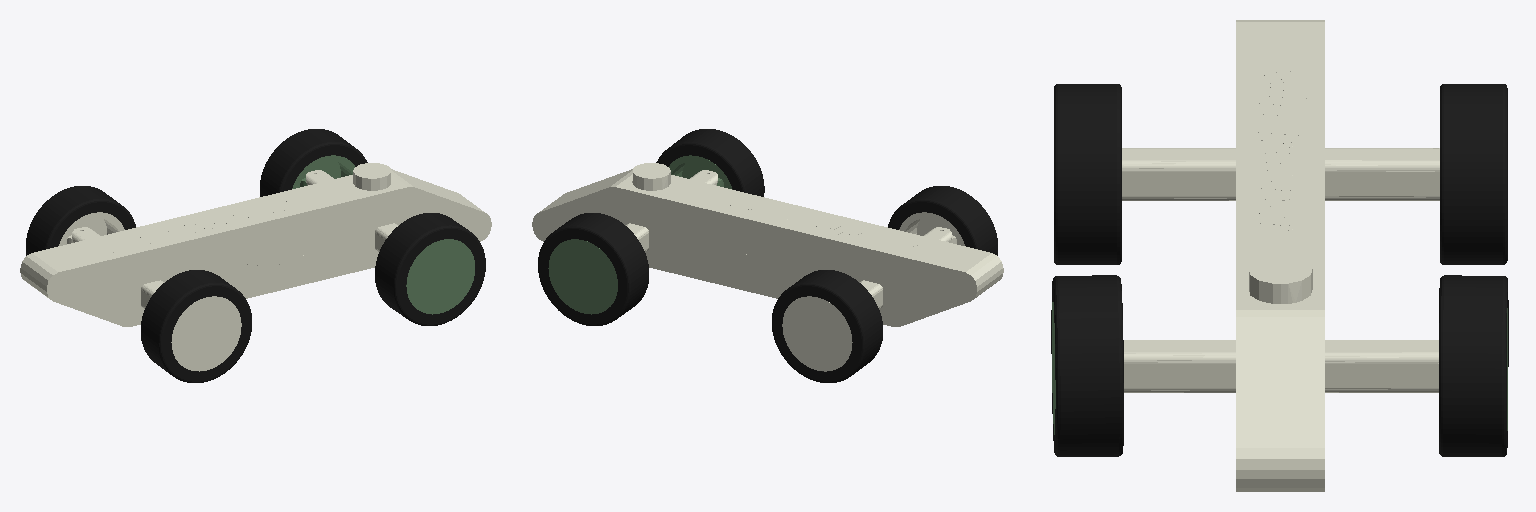
URDF robot description (windrunner):
<?xml version="1.0" encoding="utf-8"?>
<!-- This URDF was automatically created by SolidWorks to URDF Exporter! Originally created by [author] ([email redacted]) 
     Commit Version: 1.6.0-4-g7f85cfe  Build Version: 1.6.7995.38578
     For more information, please see http://wiki.ros.org/sw_urdf_exporter -->
<robot
  name="windrunner">

  <link name="base_link" />

  <joint name="base_link_to_base" type="fixed">
    <parent link="base_link"/>
    <child link="chassis"/>
  </joint>

  <link
    name="chassis">
    <inertial>
      <origin
        xyz="-0.0226488939817002 -4.07038644754473E-07 0.116500274977417"
        rpy="0 0 0" />
      <mass
        value="16.2225130856696" />
      <inertia
        ixx="0.070077623686173"
        ixy="-4.22972052044805E-07"
        ixz="0.027170245241597"
        iyy="0.822008708915092"
        iyz="2.07720596332044E-07"
        izz="0.83761002183723" />
    </inertial>
    <visual>
      <origin
        xyz="0 0 0"
        rpy="0 0 0" />
      <geometry>
        <mesh
          filename="package://windrunner/meshes/chassis.dae" />
      </geometry>
      <material
        name="">
        <color
          rgba="0.894117647058823 0.894117647058823 0.831372549019608 1" />
      </material>
    </visual>
    <collision>
      <origin
        xyz="0 0 0"
        rpy="0 0 0" />
      <geometry>
        <mesh
          filename="package://windrunner/meshes/chassis.dae" />
      </geometry>
    </collision>
  </link>
  <link
    name="right_steering">
    <inertial>
      <origin
        xyz="0.000738629445632744 6.93889390390723E-18 0.0274186562455204"
        rpy="0 0 0" />
      <mass
        value="0.775364793940127" />
      <inertia
        ixx="0.00173683701694801"
        ixy="1.11879404801544E-20"
        ixz="2.80278616327997E-05"
        iyy="0.00173874624931406"
        iyz="3.87926106565129E-19"
        izz="0.0027765039468088" />
    </inertial>
    <visual>
      <origin
        xyz="0 0 0"
        rpy="0 0 0" />
      <geometry>
        <mesh
          filename="package://windrunner/meshes/right_steering.dae" />
      </geometry>
      <material
        name="">
        <color
          rgba="0.419607843137255 0.533333333333333 0.419607843137255 1" />
      </material>
    </visual>
    <collision>
      <origin
        xyz="0 0 0"
        rpy="0 0 0" />
      <geometry>
        <mesh
          filename="package://windrunner/meshes/right_steering.dae" />
      </geometry>
    </collision>
  </link>
  <joint
    name="right_steering_joint"
    type="revolute">
    <origin
      xyz="0.25503 -0.25399 0.1016"
      rpy="1.5708 0 3.1416" />
    <parent
      link="chassis" />
    <child
      link="right_steering" />
    <axis
      xyz="0 1 0" />
    <limit
      lower="-0.2618"
      upper="0.2618"
      effort="30"
      velocity="100" />
  </joint>
  <link
    name="front_right_wheel">
    <inertial>
      <origin
        xyz="0.00102600126887337 1.38777878078145E-17 0.03808618281472"
        rpy="0 0 0" />
      <mass
        value="1.09582331936177" />
      <inertia
        ixx="0.00493854676131426"
        ixy="3.78811619008624E-20"
        ixz="0.000104648573030942"
        iyy="0.00493572764002721"
        iyz="1.40618623110915E-18"
        izz="0.00882038627025737" />
    </inertial>
    <visual>
      <origin
        xyz="0 0 0"
        rpy="0 0 0" />
      <geometry>
        <mesh
          filename="package://windrunner/meshes/front_right_wheel.dae" />
      </geometry>
      <material
        name="">
        <color
          rgba="0.149019607843137 0.149019607843137 0.149019607843137 1" />
      </material>
    </visual>
    <collision>
      <origin
        xyz="0 0 0"
        rpy="0 0 0" />
      <geometry>
        <mesh
          filename="package://windrunner/meshes/front_right_wheel.dae" />
      </geometry>
    </collision>
  </link>
  <joint
    name="front_right_wheel_joint"
    type="continuous">
    <origin
      xyz="0 0 0"
      rpy="0 0 0" />
    <parent
      link="right_steering" />
    <child
      link="front_right_wheel" />
    <axis
      xyz="-0.0269291671620307 0 -0.999637344218372" />
  </joint>
  <link
    name="left_steering">
    <inertial>
      <origin
        xyz="0.000321385971484067 0 -0.0274267204533331"
        rpy="0 0 0" />
      <mass
        value="0.775364793940128" />
      <inertia
        ixx="0.00173622492182973"
        ixy="-6.39605928065253E-22"
        ixz="-1.21988243233235E-05"
        iyy="0.00173874624931406"
        iyz="5.48647987200343E-23"
        izz="0.00277711604192708" />
    </inertial>
    <visual>
      <origin
        xyz="0 0 0"
        rpy="0 0 0" />
      <geometry>
        <mesh
          filename="package://windrunner/meshes/left_steering.dae" />
      </geometry>
      <material
        name="">
        <color
          rgba="0.419607843137255 0.533333333333333 0.419607843137255 1" />
      </material>
    </visual>
    <collision>
      <origin
        xyz="0 0 0"
        rpy="0 0 0" />
      <geometry>
        <mesh
          filename="package://windrunner/meshes/left_steering.dae" />
      </geometry>
    </collision>
  </link>
  <joint
    name="left_steering_joint"
    type="revolute">
    <origin
      xyz="0.25445 0.254 0.1016"
      rpy="1.5708 0 3.1416" />
    <parent
      link="chassis" />
    <child
      link="left_steering" />
    <axis
      xyz="0 1 0" />
    <limit
      lower="-0.2618"
      upper="0.2618"
      effort="30"
      velocity="100" />
  </joint>
  <link
    name="front_left_wheel">
    <inertial>
      <origin
        xyz="0.000446424680859869 0 -0.0380973844903337"
        rpy="0 0 0" />
      <mass
        value="1.09582331936177" />
      <inertia
        ixx="0.00493626136111048"
        ixy="-3.11301015052327E-35"
        ixz="-4.55471621351588E-05"
        iyy="0.0049357276400272"
        iyz="-2.66564276559922E-35"
        izz="0.00882267167046114" />
    </inertial>
    <visual>
      <origin
        xyz="0 0 0"
        rpy="0 0 0" />
      <geometry>
        <mesh
          filename="package://windrunner/meshes/front_left_wheel.dae" />
      </geometry>
      <material
        name="">
        <color
          rgba="0.149019607843137 0.149019607843137 0.149019607843137 1" />
      </material>
    </visual>
    <collision>
      <origin
        xyz="0 0 0"
        rpy="0 0 0" />
      <geometry>
        <mesh
          filename="package://windrunner/meshes/front_left_wheel.dae" />
      </geometry>
    </collision>
  </link>
  <joint
    name="front_left_wheel_joint"
    type="continuous">
    <origin
      xyz="0 0 0"
      rpy="0 0 0" />
    <parent
      link="left_steering" />
    <child
      link="front_left_wheel" />
    <axis
      xyz="-0.0117171832246696 0 0.999931351452328" />
  </joint>
  <link
    name="rear_right_wheel">
    <inertial>
      <origin
        xyz="0 0 0.0381"
        rpy="0 0 0" />
      <mass
        value="1.09582331936177" />
      <inertia
        ixx="0.00493572764002721"
        ixy="-3.14403027159358E-35"
        ixz="-5.88986762197504E-35"
        iyy="0.00493572764002721"
        iyz="-2.62898406278081E-35"
        izz="0.00882320539154442" />
    </inertial>
    <visual>
      <origin
        xyz="0 0 0"
        rpy="0 0 0" />
      <geometry>
        <mesh
          filename="package://windrunner/meshes/rear_right_wheel.dae" />
      </geometry>
      <material
        name="">
        <color
          rgba="0.149019607843137 0.149019607843137 0.149019607843137 1" />
      </material>
    </visual>
    <collision>
      <origin
        xyz="0 0 0"
        rpy="0 0 0" />
      <geometry>
        <mesh
          filename="package://windrunner/meshes/rear_right_wheel.dae" />
      </geometry>
    </collision>
  </link>
  <joint
    name="rear_right_wheel_joint"
    type="continuous">
    <origin
      xyz="-0.254 -0.254 0.1016"
      rpy="1.5708 0 3.1416" />
    <parent
      link="chassis" />
    <child
      link="rear_right_wheel" />
    <axis
      xyz="0 0 -1" />
  </joint>
  <link
    name="rear_left_wheel">
    <inertial>
      <origin
        xyz="0 0 -0.0381"
        rpy="0 0 0" />
      <mass
        value="1.09582331936177" />
      <inertia
        ixx="0.00493572764002721"
        ixy="-3.14403027159358E-35"
        ixz="3.58806832101396E-35"
        iyy="0.0049357276400272"
        iyz="-2.62898406278081E-35"
        izz="0.00882320539154442" />
    </inertial>
    <visual>
      <origin
        xyz="0 0 0"
        rpy="0 0 0" />
      <geometry>
        <mesh
          filename="package://windrunner/meshes/rear_left_wheel.dae" />
      </geometry>
      <material
        name="">
        <color
          rgba="0.149019607843137 0.149019607843137 0.149019607843137 1" />
      </material>
    </visual>
    <collision>
      <origin
        xyz="0 0 0"
        rpy="0 0 0" />
      <geometry>
        <mesh
          filename="package://windrunner/meshes/rear_left_wheel.dae" />
      </geometry>
    </collision>
  </link>
  <joint
    name="rear_left_wheel_joint"
    type="continuous">
    <origin
      xyz="-0.254 0.254 0.10159999836487"
      rpy="1.5707963267949 0 3.14159265358979" />
    <parent
      link="chassis" />
    <child
      link="rear_left_wheel" />
    <axis
      xyz="0 0 -1" />
  </joint>

  <transmission name="right_steering_trans">
    <type>transmission_interface/SimpleTransmission</type>
    <joint name="right_steering_joint">
      <hardwareInterface>hardware_interface/EffortJointInterface</hardwareInterface>
    </joint>
    <actuator name="right_steering_actuator">
      <hardwareInterface>hardware_interface/EffortJointInterface</hardwareInterface>
    </actuator>
  </transmission>

  <transmission name="left_steering_trans">
    <type>transmission_interface/SimpleTransmission</type>
    <joint name="left_steering_joint">
      <hardwareInterface>hardware_interface/EffortJointInterface</hardwareInterface>
    </joint>
    <actuator name="left_steering_actuator">
      <hardwareInterface>hardware_interface/EffortJointInterface</hardwareInterface>
    </actuator>
  </transmission>

  <transmission name="rear_right_wheel_trans">
    <type>transmission_interface/SimpleTransmission</type>
    <joint name="rear_right_wheel_joint">
      <hardwareInterface>hardware_interface/VelocityJointInterface</hardwareInterface>
    </joint>
    <actuator name="rear_right_wheel_actuator">
      <hardwareInterface>hardware_interface/VelocityJointInterface</hardwareInterface>
    </actuator>
  </transmission>
  
  <transmission name="rear_left_wheel_trans">
    <type>transmission_interface/SimpleTransmission</type>
    <joint name="rear_left_wheel_joint">
      <hardwareInterface>hardware_interface/VelocityJointInterface</hardwareInterface>
    </joint>
    <actuator name="rear_left_wheel_actuator">
      <hardwareInterface>hardware_interface/VelocityJointInterface</hardwareInterface>
    </actuator>
  </transmission>
  
</robot>

--- Render facts (derived) ---
The picture shows the robot from 3 angles, left to right: view 1: azimuth 30°, elevation 25°; view 2: azimuth 150°, elevation 25°; view 3: azimuth 270°, elevation 25°; orthographic projection.
Robot: windrunner — 8 links, 7 joints (2 revolute, 4 continuous, 1 fixed); root link base_link; default pose: all joints at 0.
Links seen in each view (by area): view 1: chassis, front_right_wheel, rear_right_wheel, right_steering, rear_left_wheel, front_left_wheel, left_steering; view 2: chassis, front_left_wheel, rear_left_wheel, left_steering, rear_right_wheel, front_right_wheel, right_steering; view 3: chassis, front_right_wheel, front_left_wheel, rear_right_wheel, rear_left_wheel.
Link boxes in pixels (bbox=[...]): chassis: bbox=[20, 163, 491, 371]; front_right_wheel: bbox=[375, 213, 485, 325]; rear_right_wheel: bbox=[141, 270, 251, 382]; right_steering: bbox=[406, 239, 474, 314]; rear_left_wheel: bbox=[26, 186, 135, 255]; front_left_wheel: bbox=[260, 129, 367, 196]; left_steering: bbox=[292, 155, 354, 188]; chassis: bbox=[532, 163, 1003, 371]; front_left_wheel: bbox=[538, 213, 648, 325]; rear_left_wheel: bbox=[772, 270, 882, 382]; left_steering: bbox=[548, 239, 617, 314]; rear_right_wheel: bbox=[888, 186, 997, 255]; front_right_wheel: bbox=[656, 129, 764, 196]; right_steering: bbox=[669, 155, 732, 189]; chassis: bbox=[1122, 20, 1439, 491]; front_right_wheel: bbox=[1051, 275, 1123, 456]; front_left_wheel: bbox=[1439, 275, 1508, 456]; rear_right_wheel: bbox=[1054, 84, 1121, 264]; rear_left_wheel: bbox=[1440, 84, 1507, 264].
Bounding box of the posed robot: 0.9652 × 0.5117 × 0.2195 m (x, y, z).
Meshes: 7 distinct files referenced, 7 mesh visuals loaded (7 Collada DAE).
